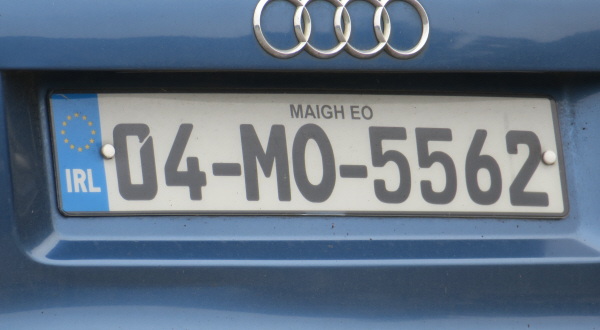license_plate: (45, 88, 569, 218)
